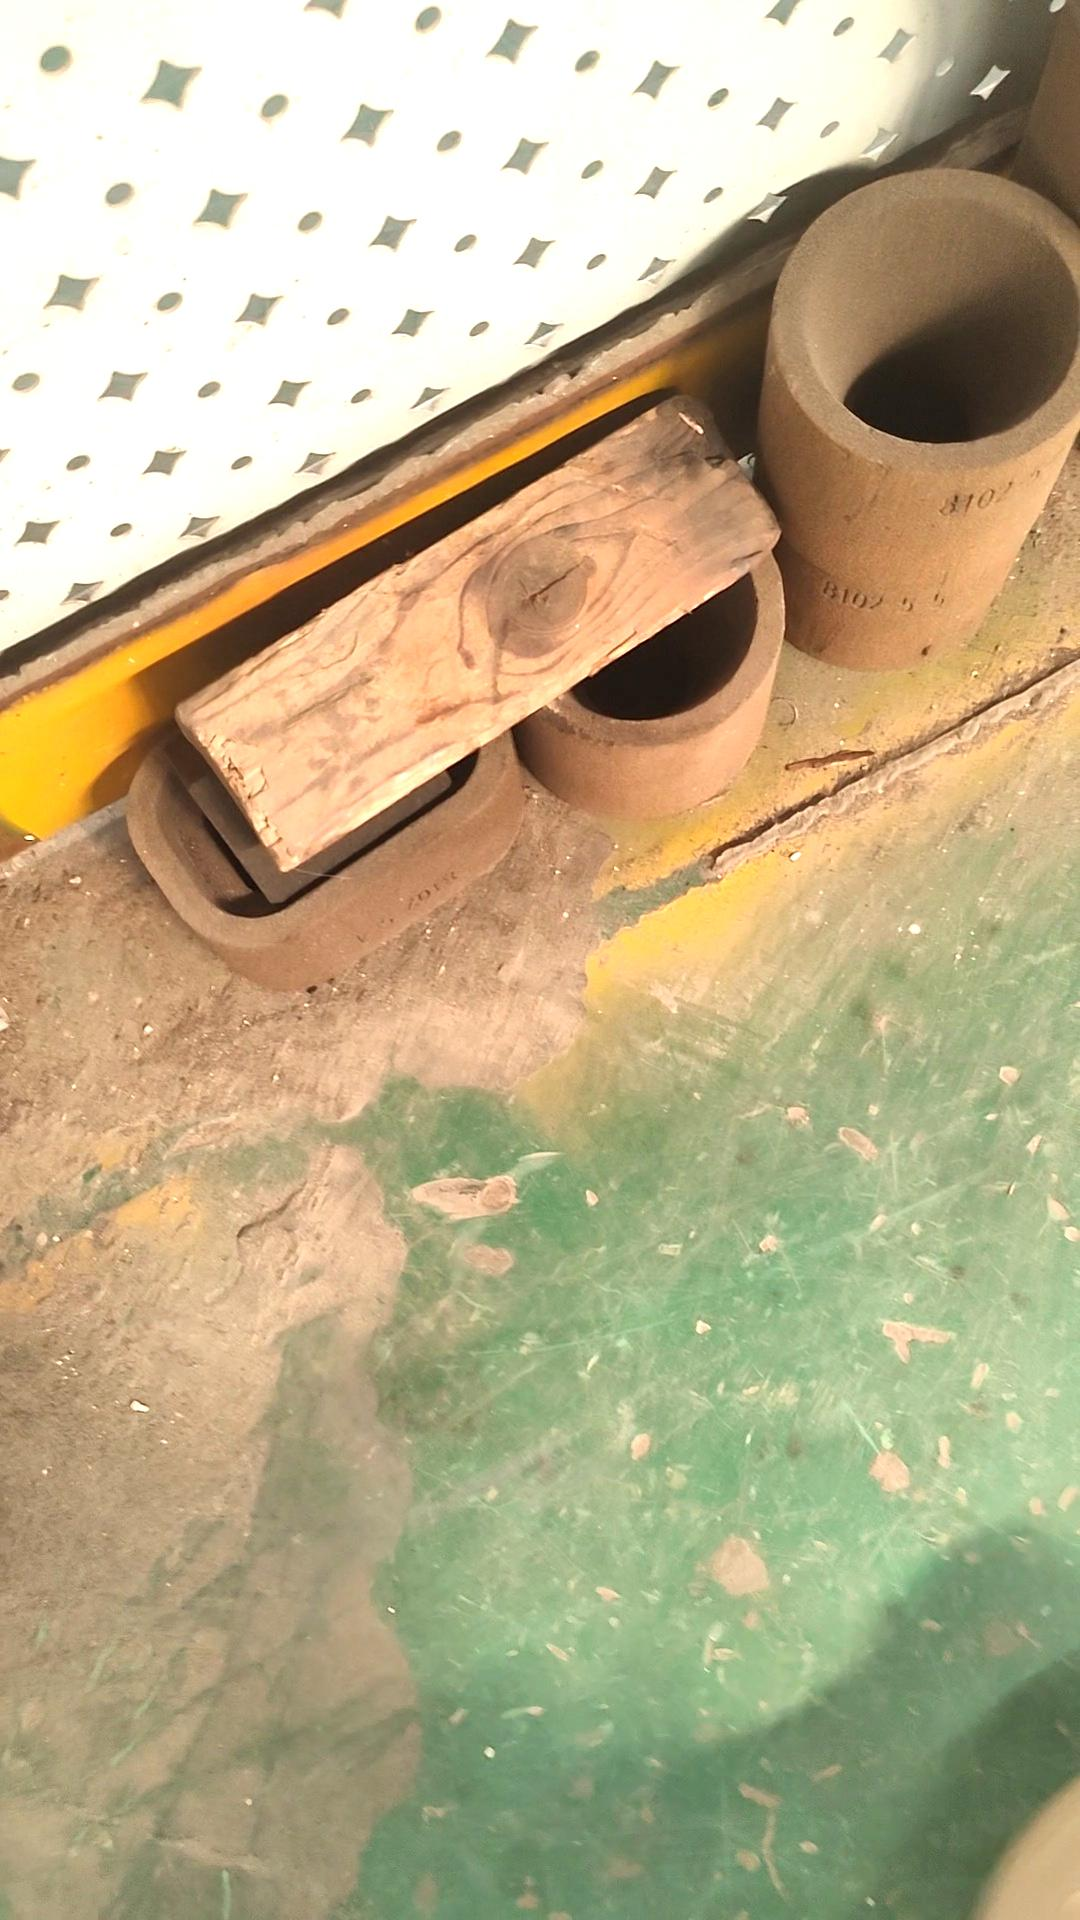pouring hole: (807, 196, 1079, 444), (535, 516, 758, 721)
